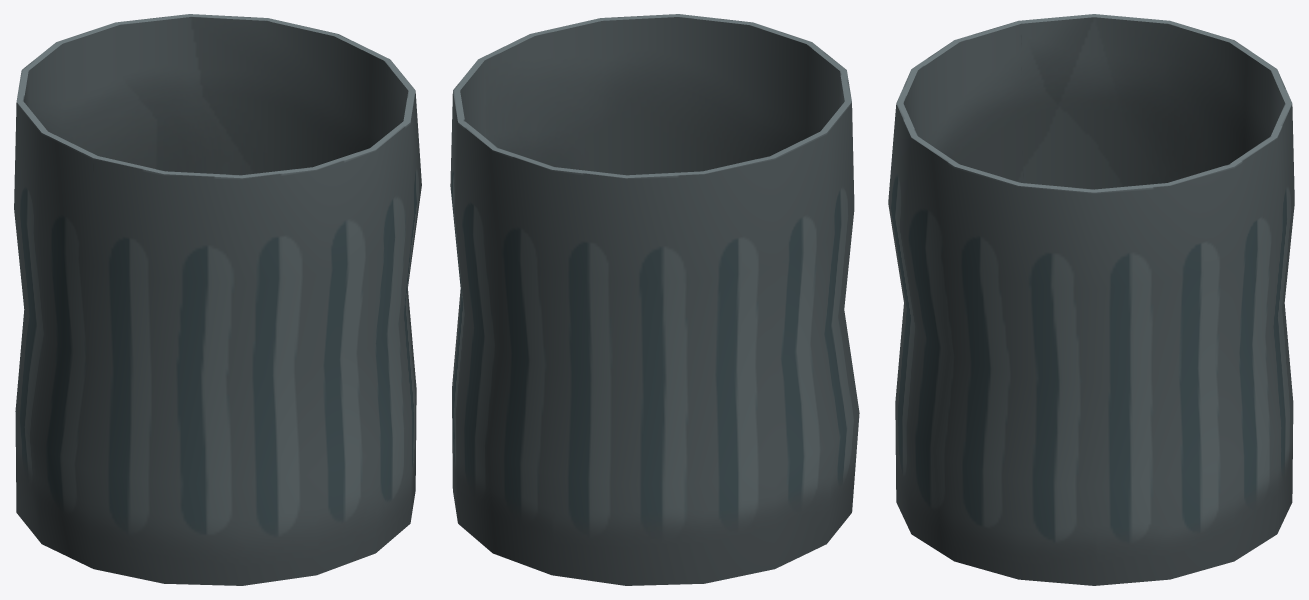
Rendered from TrashCan.fbx.
3 renders of one model, left to right at view 1: azimuth 30°, elevation 25°; view 2: azimuth 150°, elevation 25°; view 3: azimuth 270°, elevation 25°, orthographic.
Visible parts, largest first — view 1: Cylinder; view 2: Cylinder; view 3: Cylinder.
Part boxes in pixels (<box>): Cylinder: <box>14,14,421,585</box>; Cylinder: <box>450,14,859,585</box>; Cylinder: <box>888,14,1294,585</box>.
Size of the model in its own units: 0.9344 by 1.01 by 0.9239.
